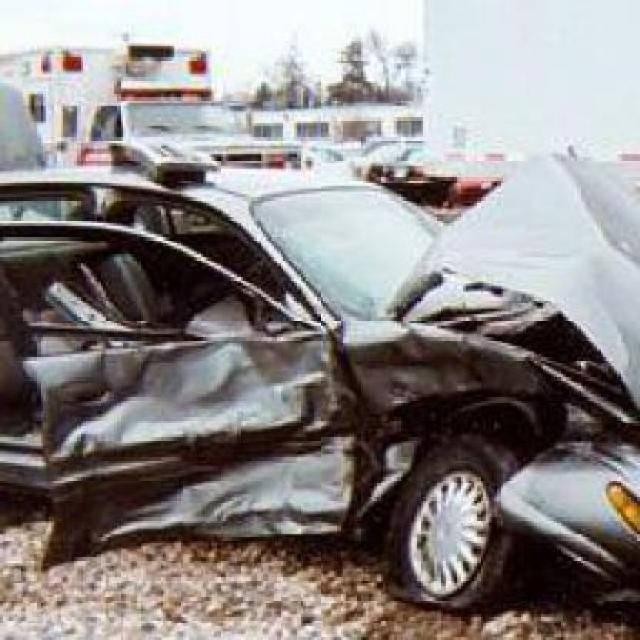damaged-door: (11, 208, 364, 570)
damaged-hood: (400, 172, 637, 388)
